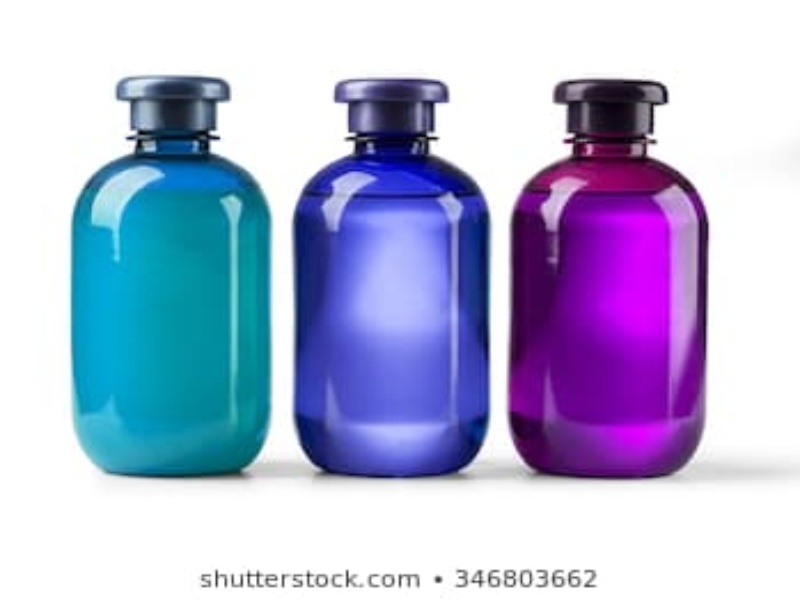shampoo-bottle: (66, 73, 271, 481), (506, 77, 711, 485), (289, 76, 494, 484)
